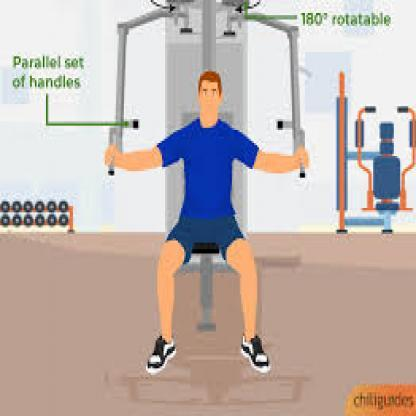chest fly machine: (93, 0, 318, 384)
